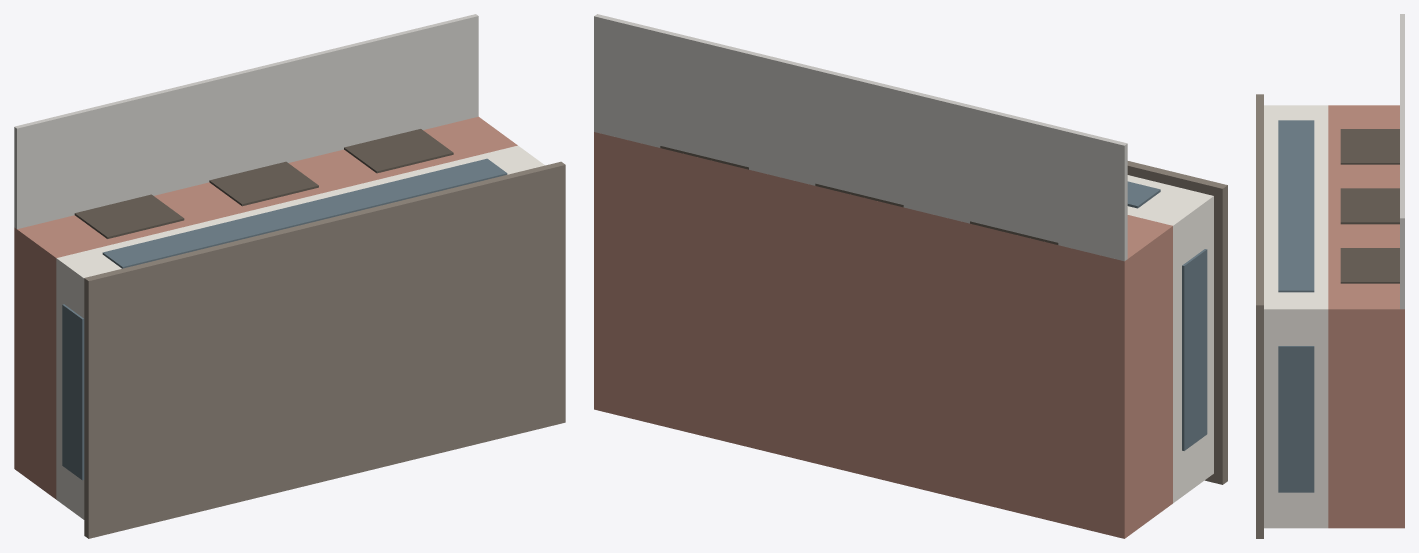
Rendered from r-146-thyro-boathouse.glb.
3 views of the same model, side by side, from view 1: azimuth 30°, elevation 25°; view 2: azimuth 150°, elevation 25°; view 3: azimuth 270°, elevation 25° (orthographic). The views are drawn at different scales.
Visible parts, largest first — view 1: flat-roof, launch-apron, brick-ground-floor, clubroom-windows, boat-doors, render-upper-floor; view 2: brick-ground-floor, launch-apron, render-upper-floor, flat-roof, clubroom-windows, boat-doors; view 3: brick-ground-floor, render-upper-floor, clubroom-windows, boat-doors, flat-roof, launch-apron.
Part boxes in pixels (x1=…): flat-roof: x1=84, y1=161, x2=565, y2=538; launch-apron: x1=14, y1=14, x2=478, y2=229; brick-ground-floor: x1=14, y1=116, x2=517, y2=499; clubroom-windows: x1=62, y1=158, x2=507, y2=480; boat-doors: x1=74, y1=129, x2=453, y2=238; render-upper-floor: x1=56, y1=145, x2=544, y2=519; brick-ground-floor: x1=594, y1=132, x2=1172, y2=538; launch-apron: x1=594, y1=14, x2=1127, y2=261; render-upper-floor: x1=1127, y1=175, x2=1213, y2=503; flat-roof: x1=1127, y1=161, x2=1227, y2=484; clubroom-windows: x1=1127, y1=181, x2=1207, y2=450; boat-doors: x1=660, y1=146, x2=1058, y2=244; brick-ground-floor: x1=1328, y1=105, x2=1404, y2=528; render-upper-floor: x1=1264, y1=105, x2=1328, y2=528; clubroom-windows: x1=1278, y1=120, x2=1314, y2=492; boat-doors: x1=1340, y1=129, x2=1399, y2=283; flat-roof: x1=1256, y1=94, x2=1263, y2=538; launch-apron: x1=1400, y1=14, x2=1404, y2=309.
Size of the model in its own units: 24800 by 17400 by 7400.
